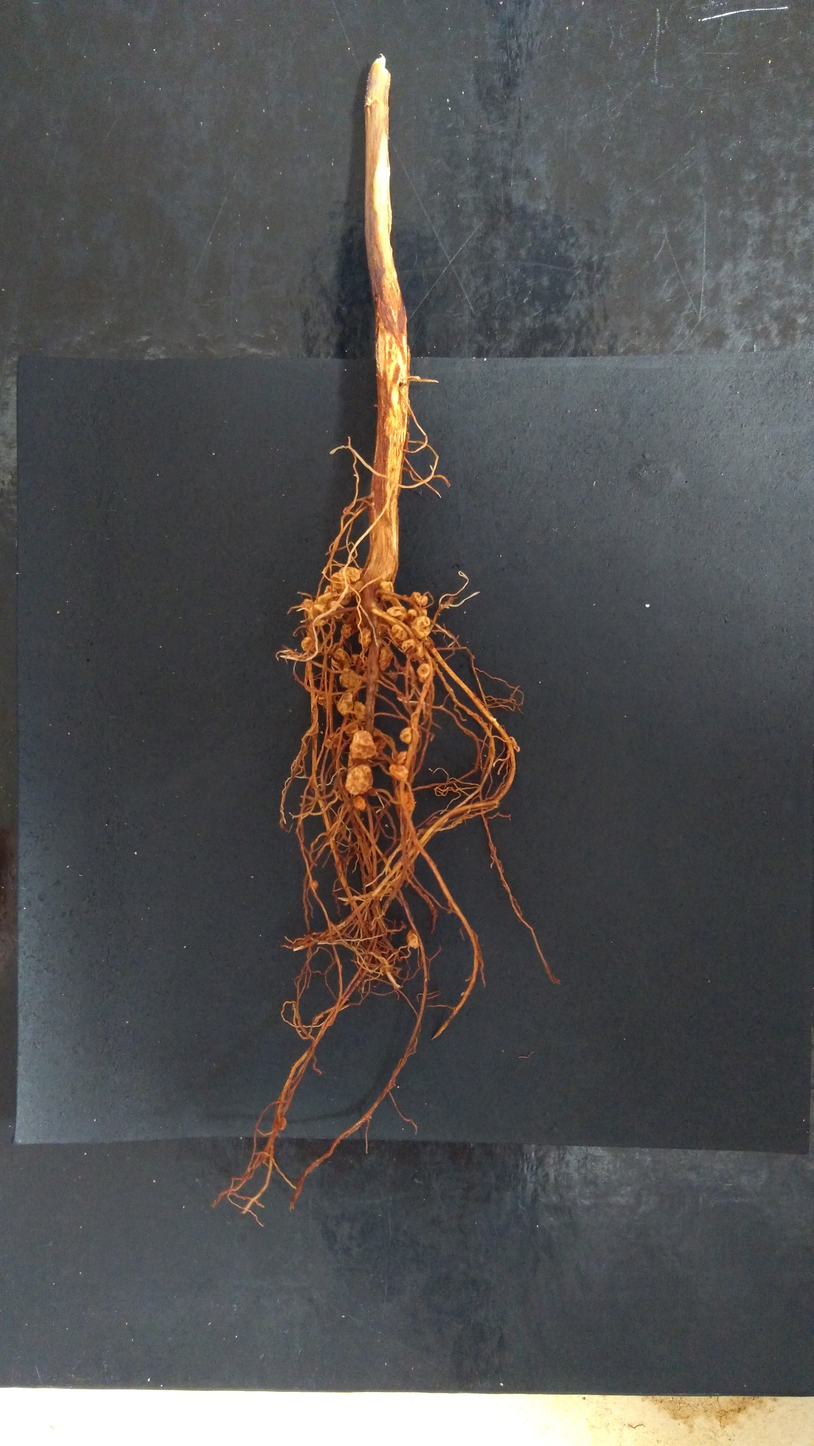nodule: (343, 763, 375, 796), (348, 728, 377, 760), (400, 638, 426, 661), (307, 603, 330, 627), (410, 615, 432, 639), (338, 667, 360, 690), (336, 691, 354, 717), (321, 585, 338, 610), (388, 762, 409, 782), (329, 571, 351, 590), (378, 646, 394, 672), (338, 566, 361, 583), (378, 580, 395, 603), (327, 600, 346, 620), (339, 620, 359, 639), (405, 928, 421, 951), (390, 623, 409, 642), (386, 605, 406, 623), (352, 700, 367, 723), (409, 590, 429, 607), (416, 662, 431, 684), (357, 627, 372, 648), (324, 732, 341, 750), (336, 588, 352, 606), (351, 652, 367, 670), (402, 790, 415, 812), (373, 737, 388, 756), (398, 726, 412, 746), (352, 794, 366, 812), (351, 581, 365, 599), (394, 750, 408, 766), (300, 636, 313, 652), (333, 647, 347, 661), (300, 597, 314, 611), (278, 1115, 287, 1132), (309, 879, 320, 892)
